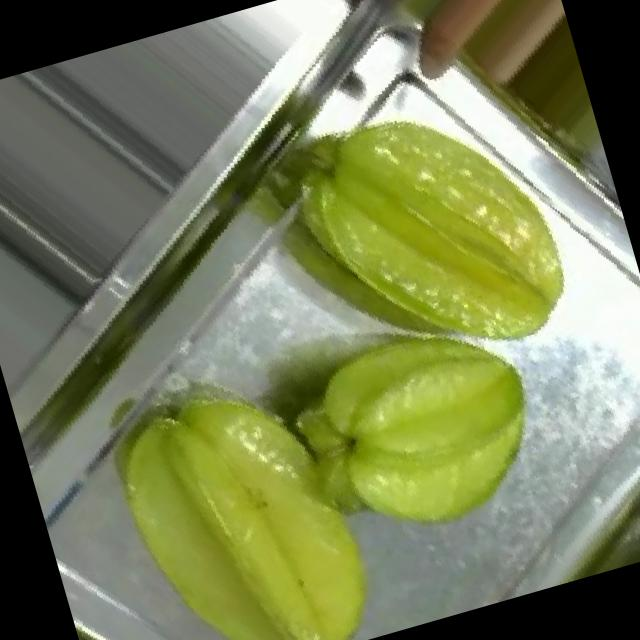fruit: (202, 27, 640, 451), (8, 294, 441, 640), (243, 223, 622, 614), (506, 446, 640, 591)
